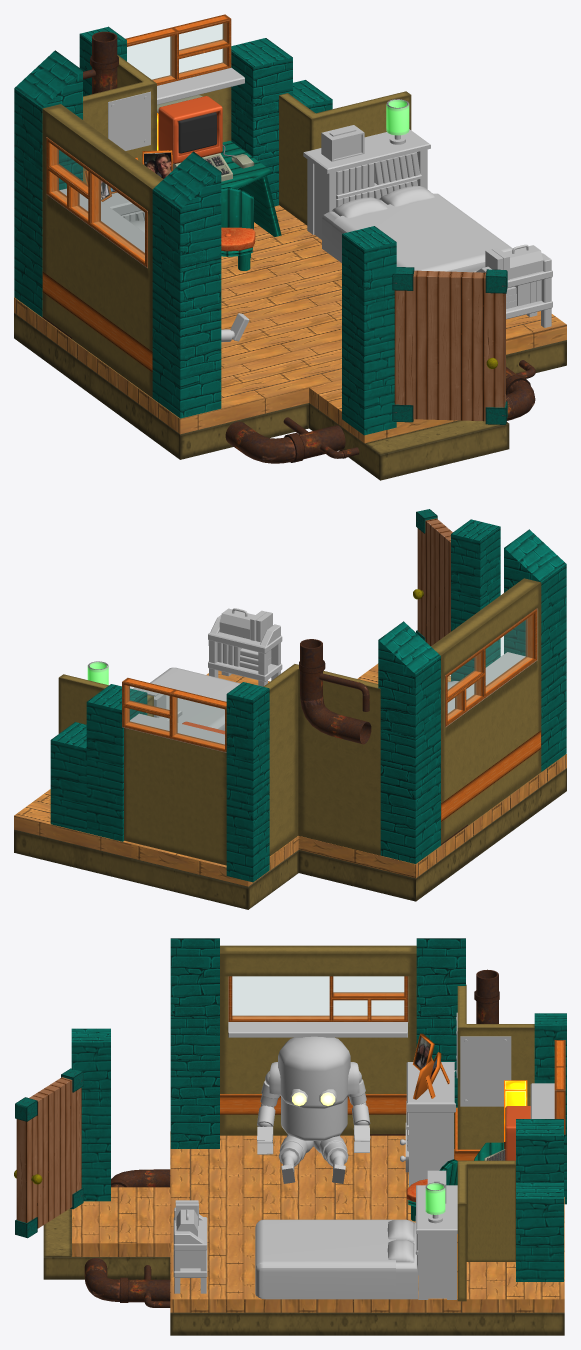
3 views of the same model, one above another, from view 1: azimuth 30°, elevation 25°; view 2: azimuth 150°, elevation 25°; view 3: azimuth 270°, elevation 25° (orthographic). The views are drawn at different scales.
Parts seen in each view (by area): view 1: room1, asset2, asset3, asset1; view 2: room1, asset2, asset1; view 3: room1, asset2, asset1, asset3.
Part boxes in pixels (x1=…): room1: x1=14, y1=14, x2=566, y2=480; asset2: x1=103, y1=129, x2=552, y2=327; asset3: x1=84, y1=95, x2=281, y2=270; asset1: x1=59, y1=67, x2=409, y2=342; room1: x1=14, y1=509, x2=566, y2=909; asset2: x1=150, y1=608, x2=282, y2=730; asset1: x1=87, y1=652, x2=525, y2=744; room1: x1=14, y1=938, x2=566, y2=1335; asset2: x1=173, y1=1062, x2=457, y2=1299; asset1: x1=228, y1=1012, x2=554, y2=1223; asset3: x1=406, y1=1033, x2=530, y2=1221.
Size of the model in its own units: 604 by 409 by 828.
